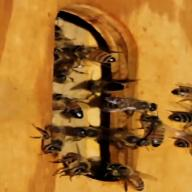Bee: (33, 122, 84, 160), (70, 44, 137, 71), (140, 114, 182, 156)
